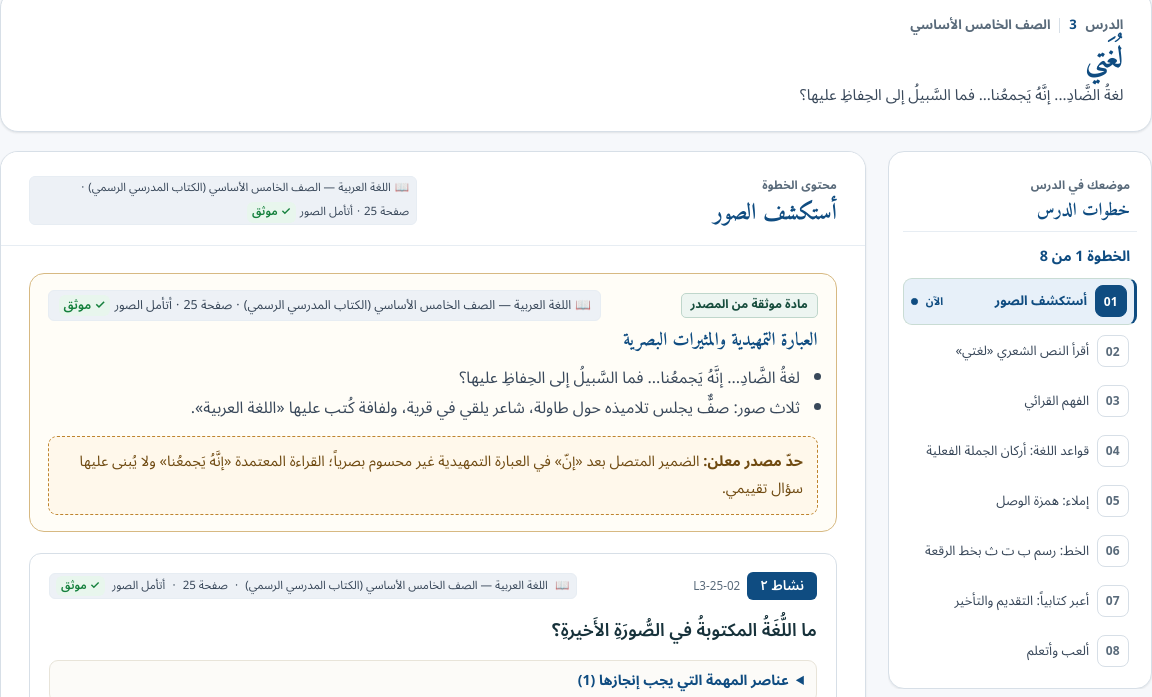
PR 3 — rendered student surface › skips the hidden step with the next button and reports the visible position
Click the button with aria-label "الخطوة 3:". click: click(1020, 401)
box: [903,378,1137,425]
(page scrolled)
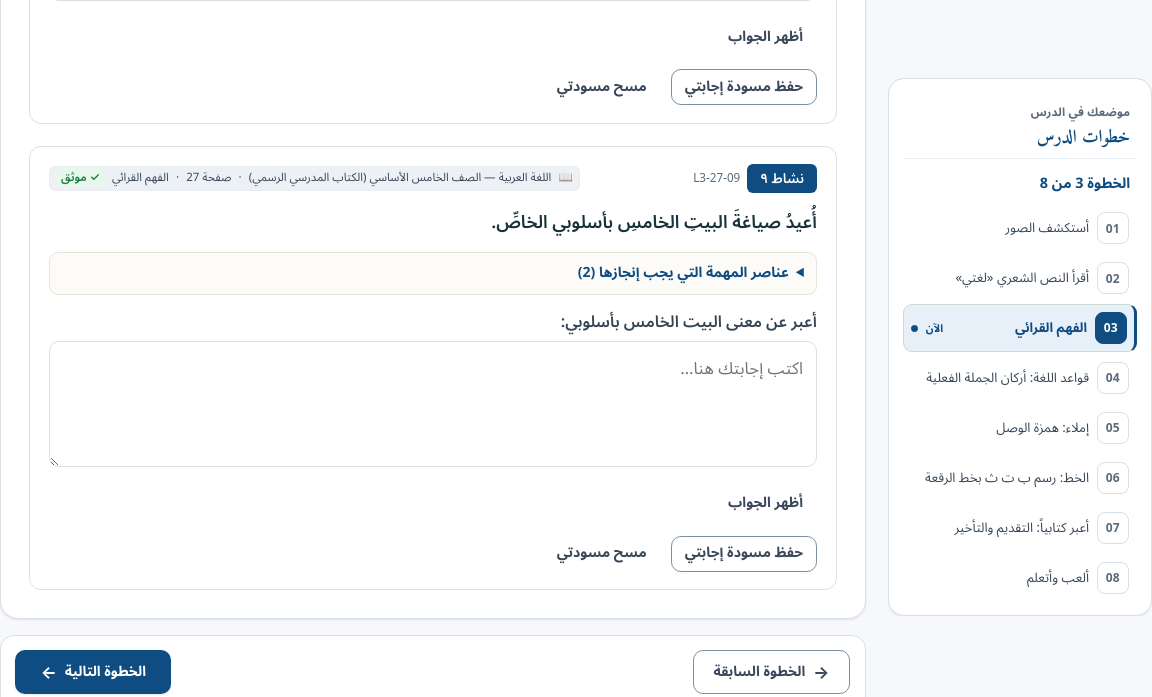
Click the button with aria-label "الانتقال إلى الخطوة 4". click: click(93, 672)
box: [15,650,171,694]
(page scrolled)
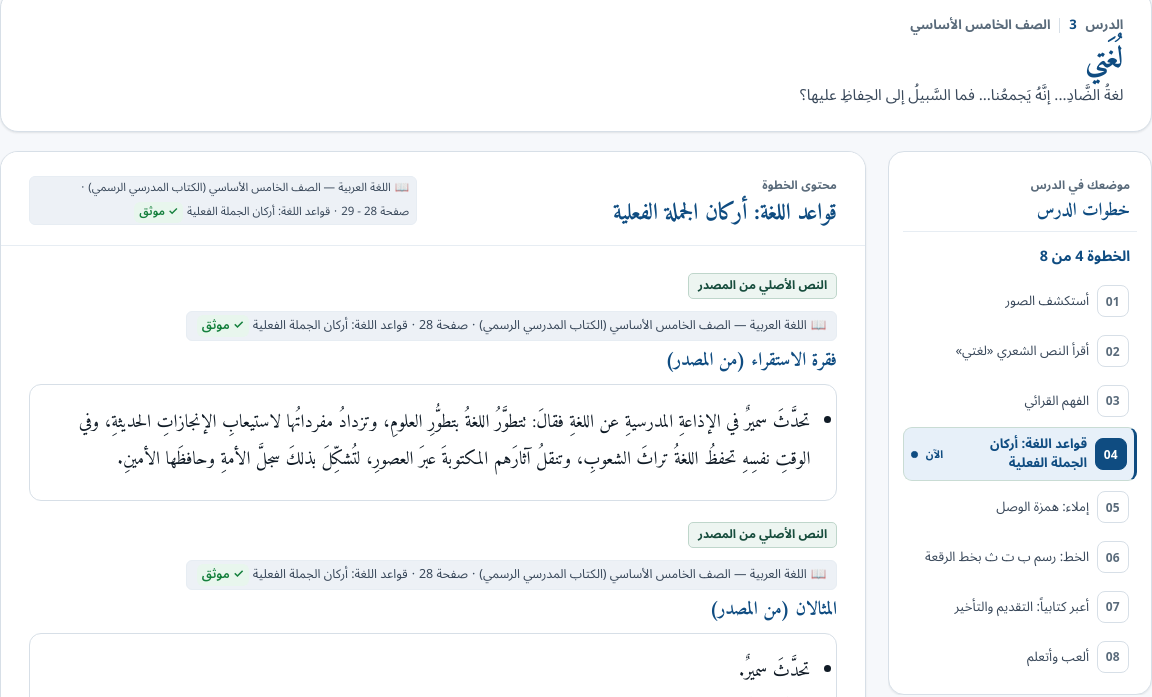
expect the heading "قواعد اللغة: أركان الجملة الفعلية" is shown: met, box [613,199,837,229]
expect the element with class "lesson-step-position" reads "الخطوة 4 من 8": met, box [1040,241,1130,272]
